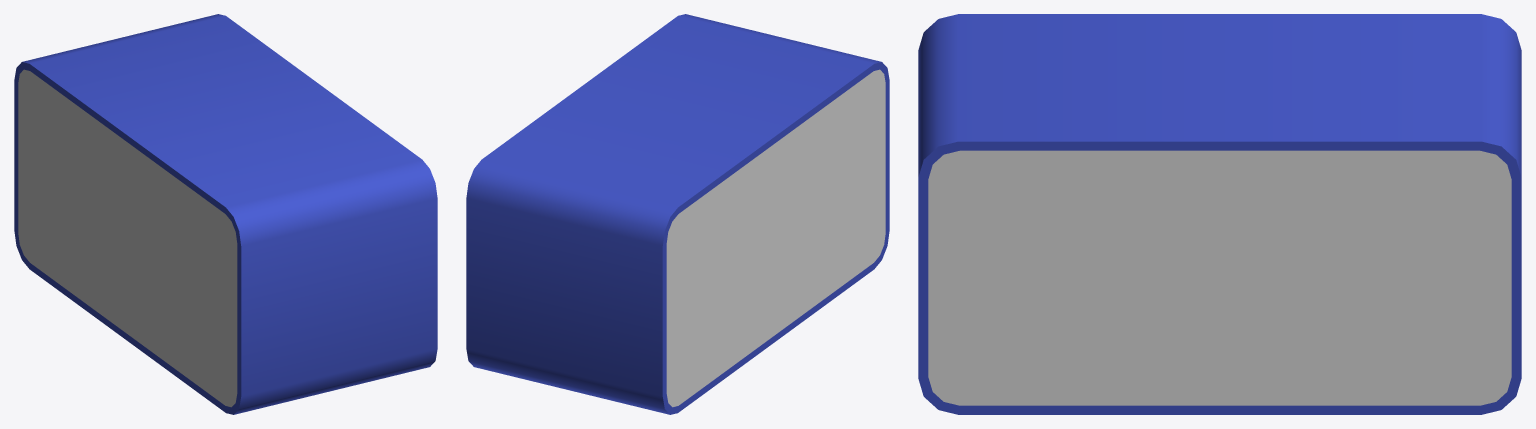
File: MapProps.fbx
3 views of the same model, side by side, from view 1: azimuth 30°, elevation 25°; view 2: azimuth 150°, elevation 25°; view 3: azimuth 270°, elevation 25° (orthographic). The views are drawn at different scales.
Parts seen in each view (by area): view 1: BigBox; view 2: BigBox; view 3: BigBox.
Part boxes in pixels (x1,y1,x2,y2): BigBox: (14,14,437,414); BigBox: (466,14,889,414); BigBox: (918,14,1521,414).
Size of the model in its own units: 2 by 4 by 2.
